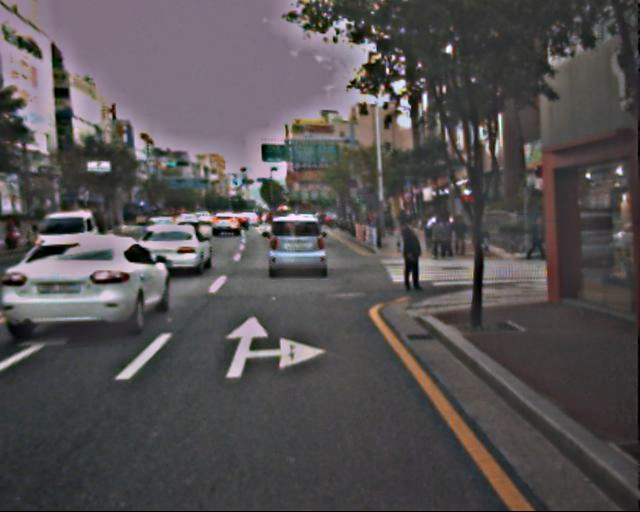person: (394, 213, 427, 293), (425, 213, 467, 255), (526, 215, 546, 264)
